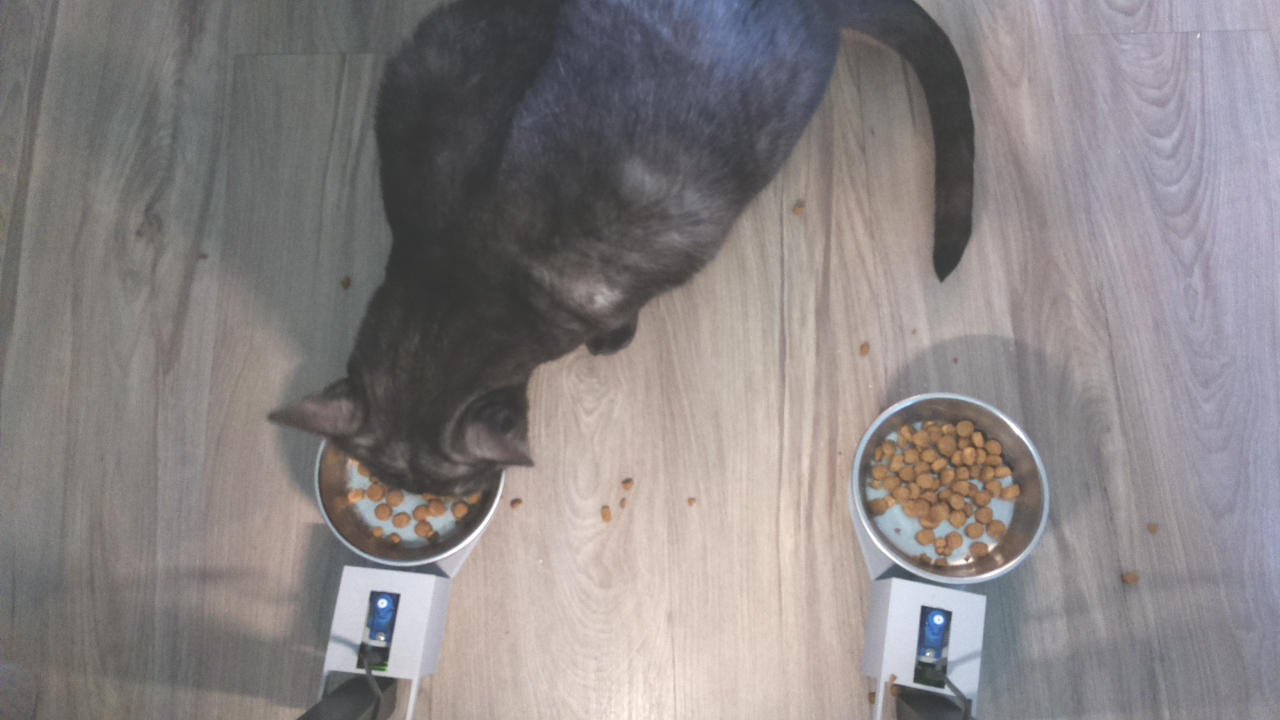open_bowl: (847, 386, 1056, 593)
saki_eating: (255, 312, 547, 577)
